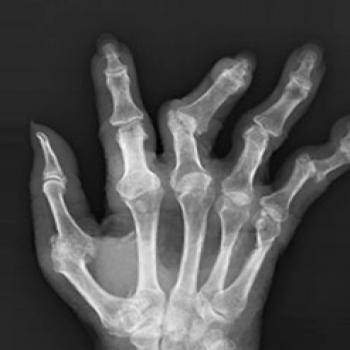Fracture: (166, 104, 206, 145), (296, 151, 329, 186)
